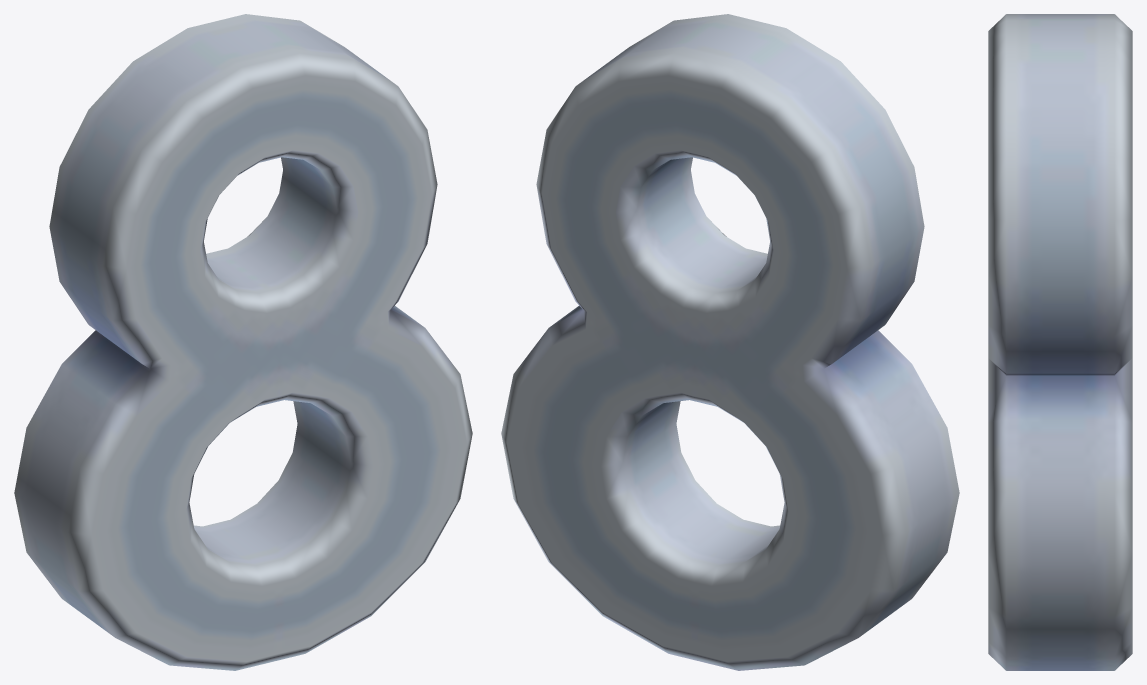
The model's file is rmk_nmb_8.dae.
3 views of the same model, side by side, from view 1: azimuth 30°, elevation 25°; view 2: azimuth 150°, elevation 25°; view 3: azimuth 270°, elevation 25° (orthographic).
Visible parts, largest first — view 1: rmk_nmb_8; view 2: rmk_nmb_8; view 3: rmk_nmb_8.
Part boxes in pixels (x1=…): rmk_nmb_8: x1=14, y1=14, x2=472, y2=670; rmk_nmb_8: x1=501, y1=14, x2=959, y2=670; rmk_nmb_8: x1=988, y1=14, x2=1132, y2=670.
Size of the model in its own units: 21.24 by 30.19 by 6.5.
Materials: 1 (1 with a texture image).
